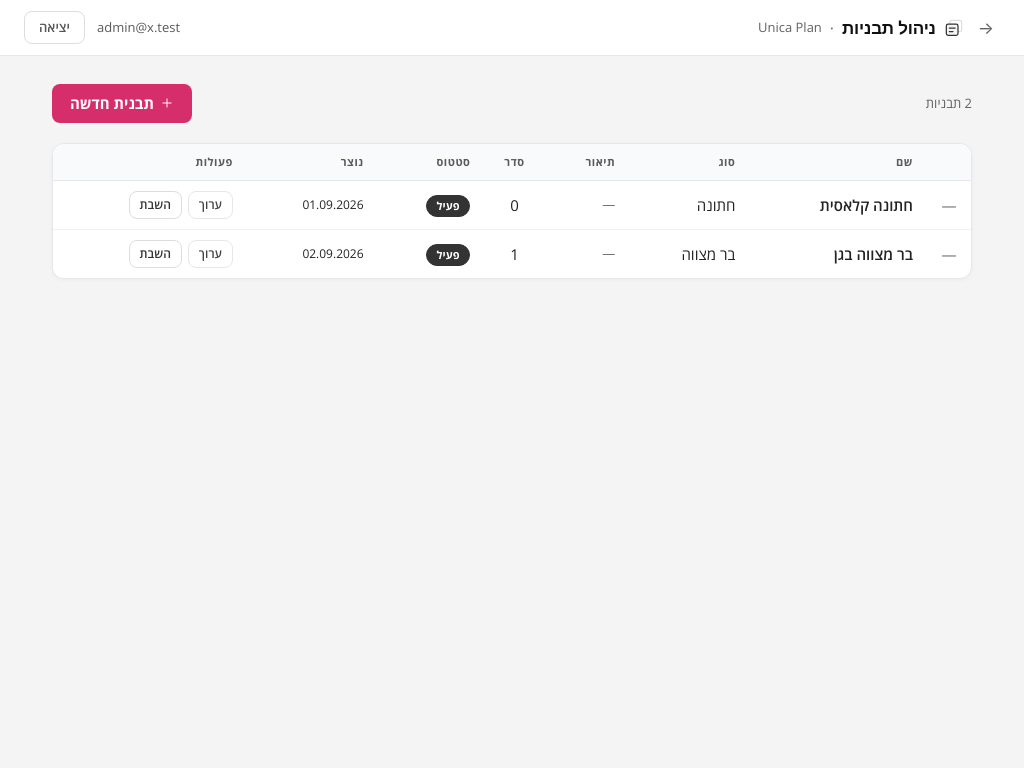
Scenario: admin templates — a failed refresh keeps the list › after a save whose reload fails, the rows and their actions stay
The image size is (1024, 768).
Expected: the text "חתונה קלאסית" is shown, [749, 180, 927, 230]
Click the button "ערוך" in the row of "חתונה קלאסית" at (210, 205), box [188, 191, 233, 219]
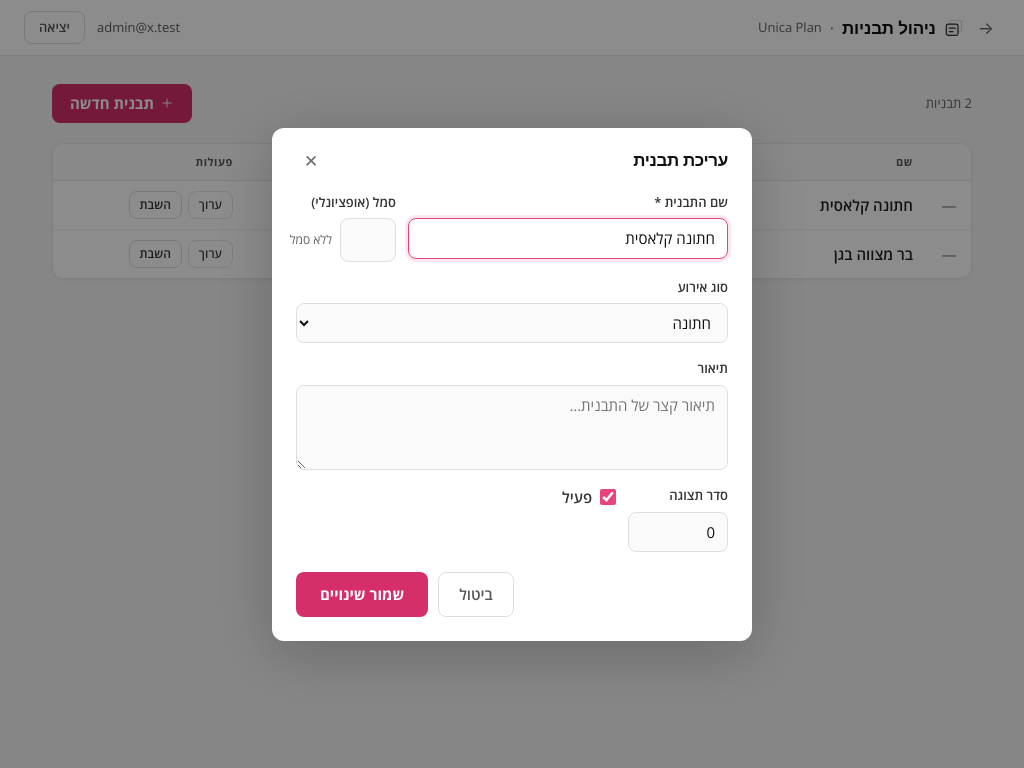
Click the button "שמור שינויים" at (362, 594), box [296, 572, 428, 616]
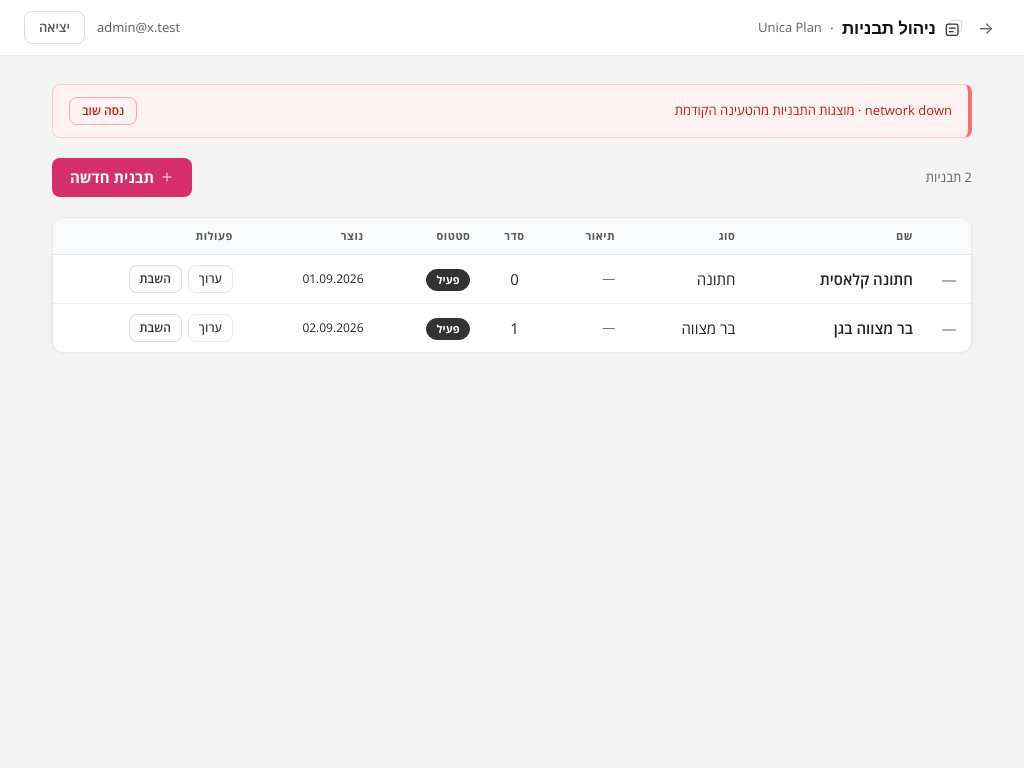
Expected: the text "חתונה קלאסית" is shown, [749, 254, 927, 304]
Expected: the text "network down · מוצגות התבניות מהטעינה הקודמת נסה שוב" is shown, [52, 84, 972, 138]
